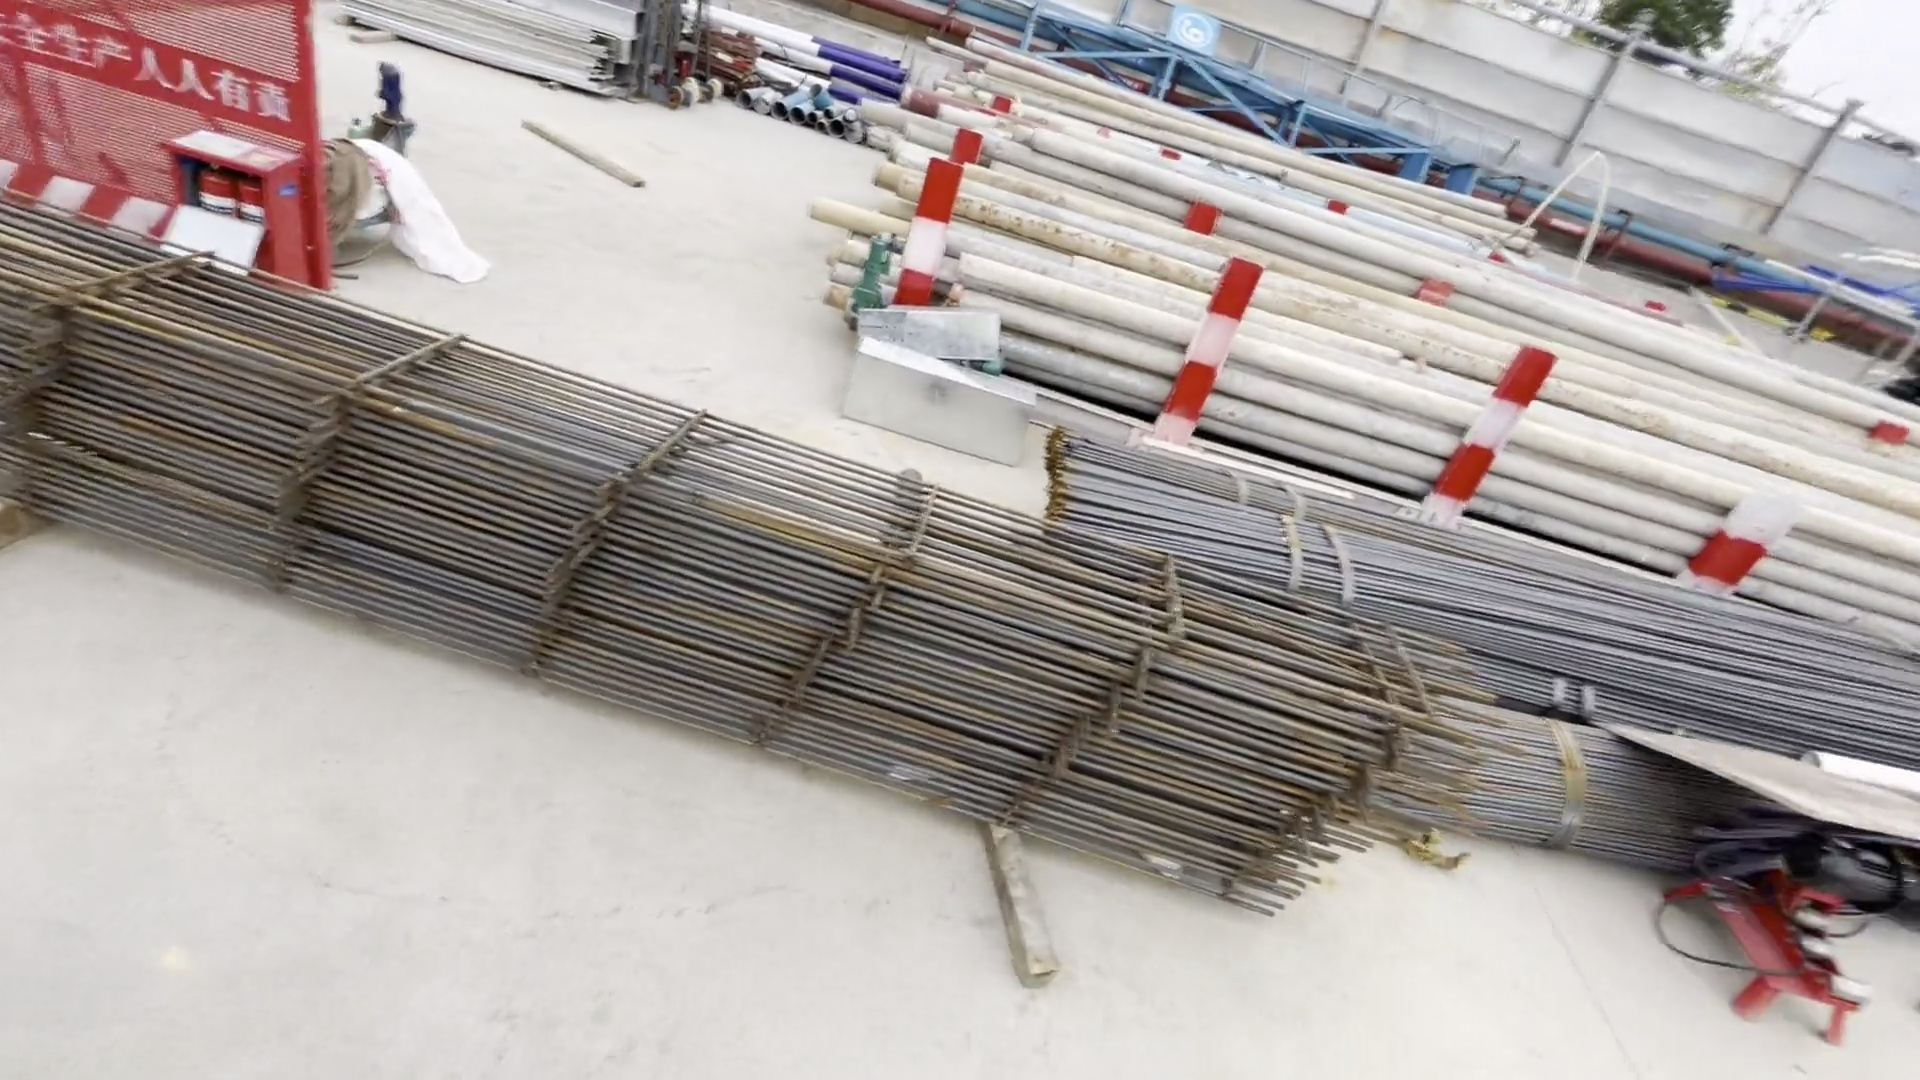cutter: (1692, 790, 1905, 1033)
fence: (7, 1, 375, 287)
rebar: (1, 196, 1489, 959), (1043, 434, 1920, 891)
slogan: (16, 1, 298, 133)
